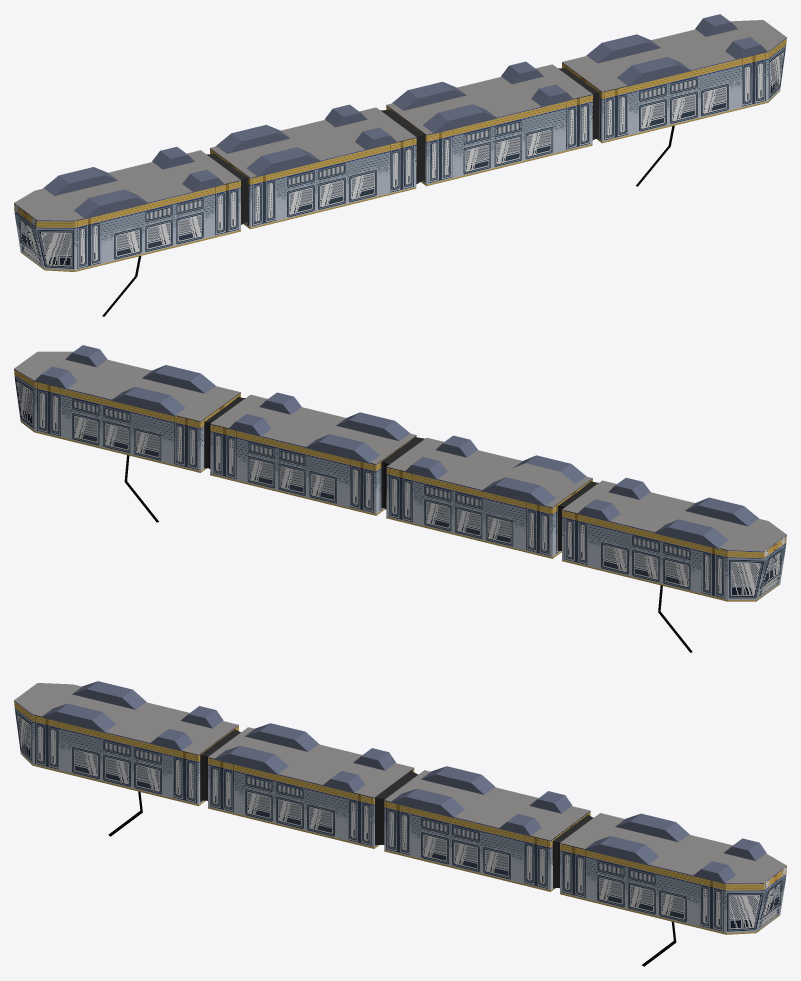
Rendered from Train (1).fbx.
3 renders of one model, top to bottom at view 1: azimuth 30°, elevation 25°; view 2: azimuth 150°, elevation 25°; view 3: azimuth 330°, elevation 25°, orthographic.
Visible parts, largest first — view 1: Antenna.002; view 2: Antenna.002; view 3: Antenna.002.
Part boxes in pixels (x1,y1,x2,y2): Antenna.002: (14, 14, 786, 316); Antenna.002: (14, 345, 786, 652); Antenna.002: (14, 681, 786, 966).
Size of the model in its own units: 5488 by 954 by 522.
5 materials, 1 textured.
